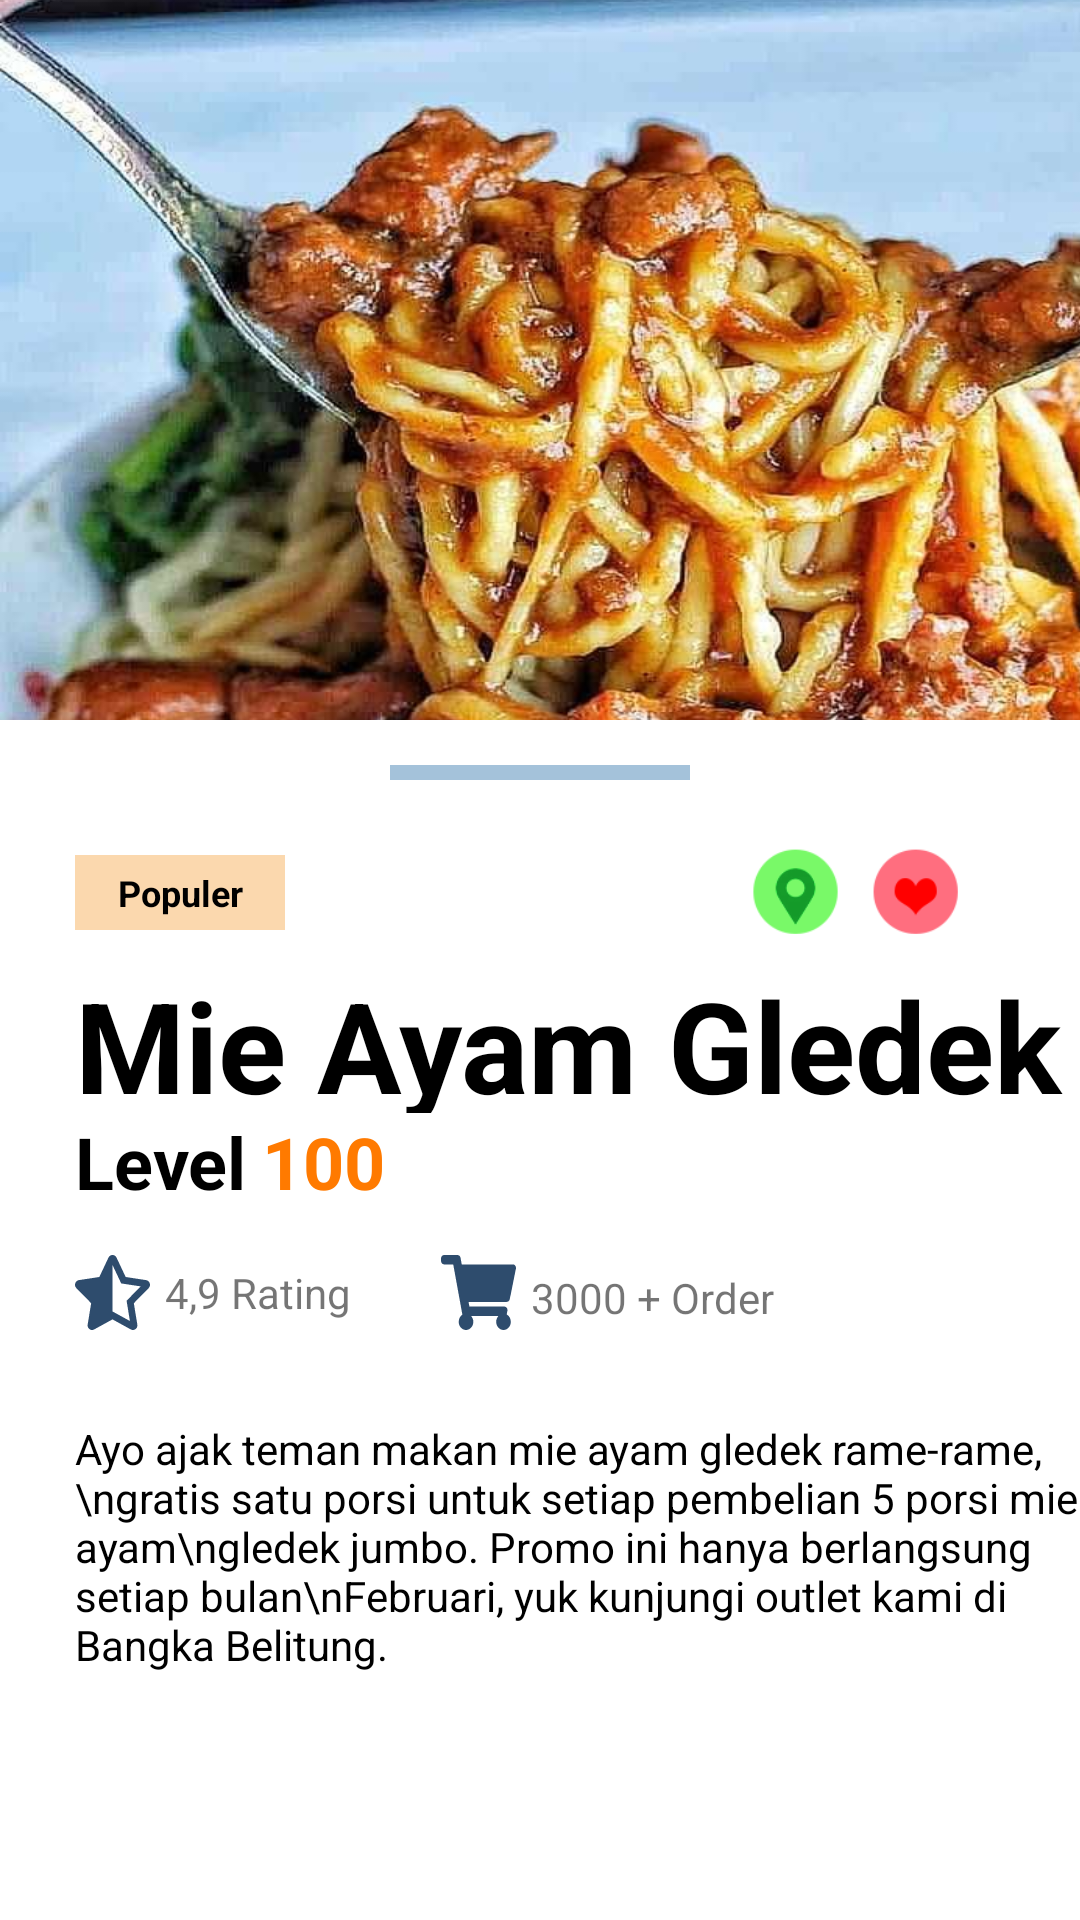

Where to tap for icons on this 1080w x 1920h app screen, as (x,y):
cart: (478,1292)
lovlok: (855,891)
star: (112,1292)
